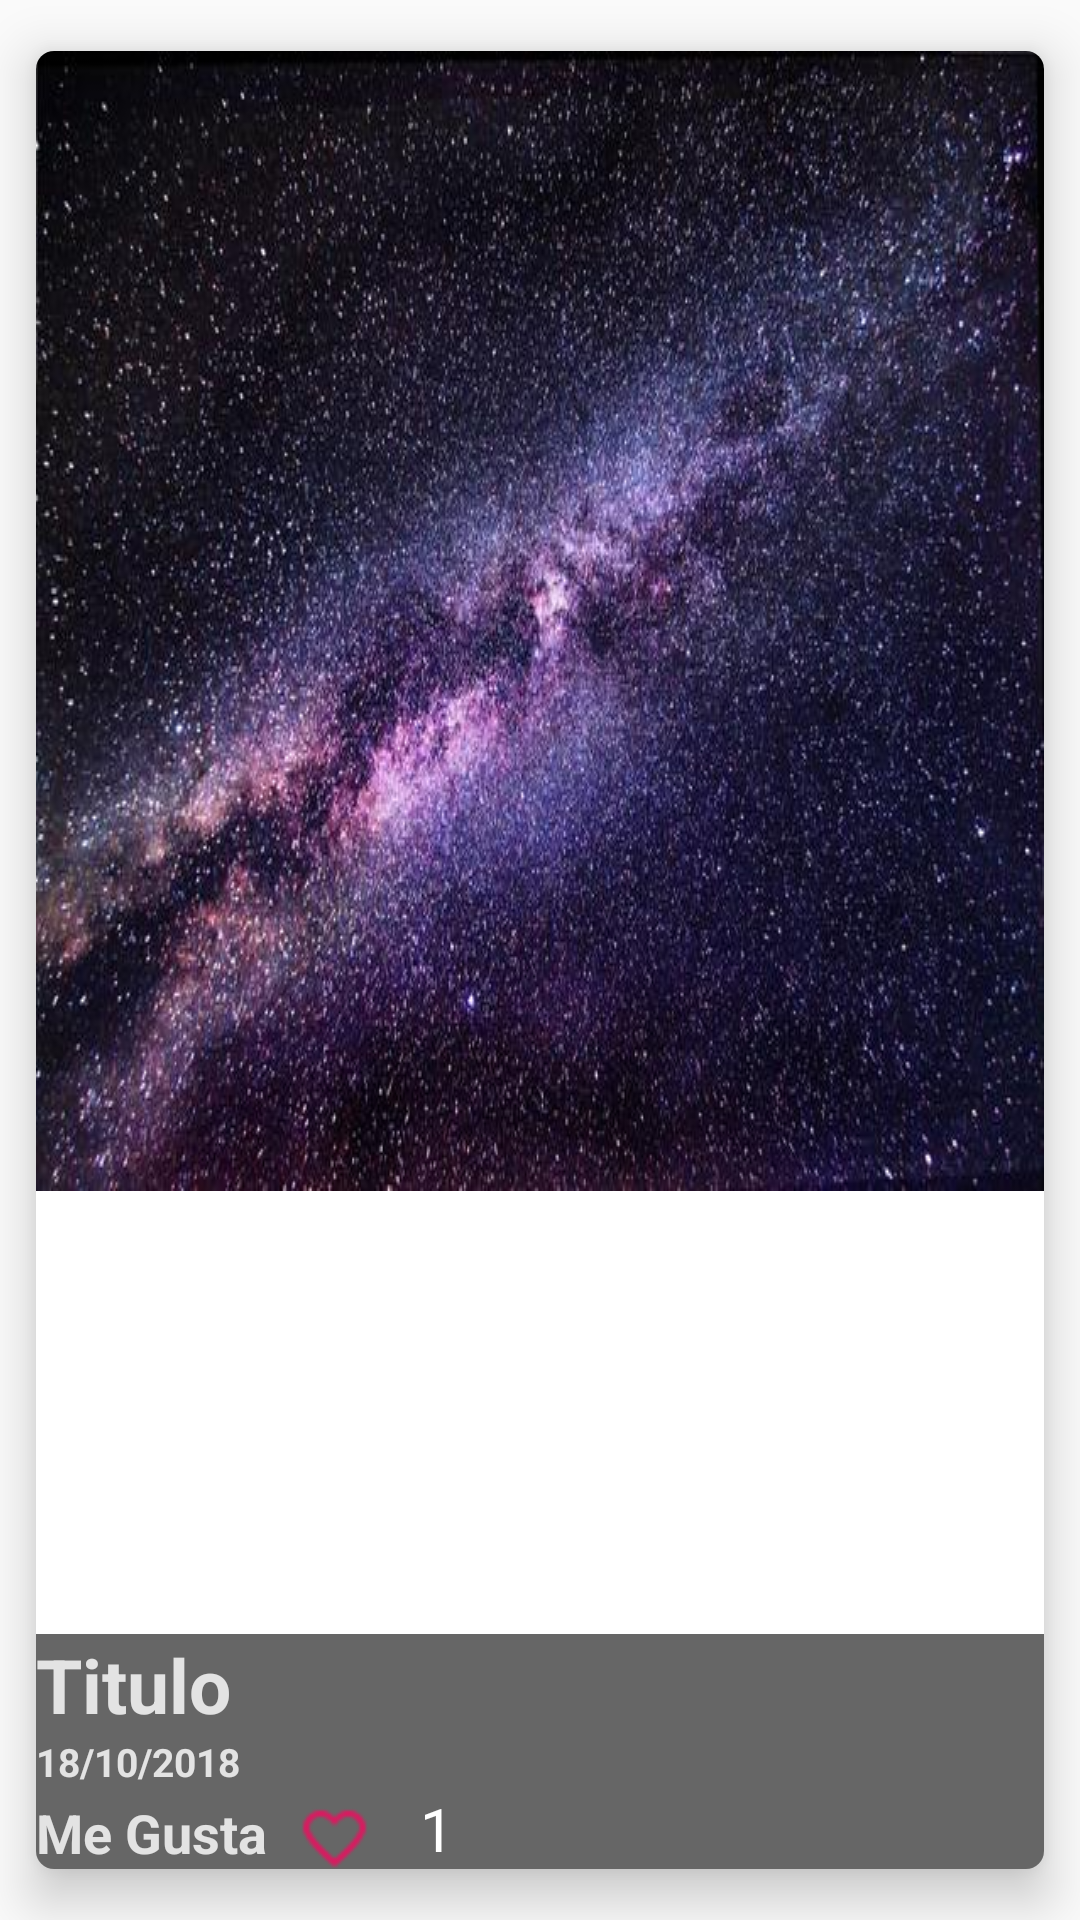

Named icons in this screenshot (1080x1920) and their centers, [x,y]:
heart: [334,1838]
